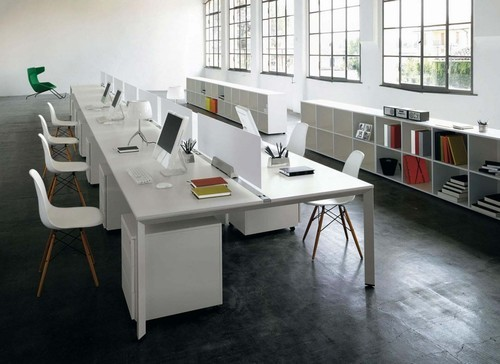conference_table: (68, 86, 374, 339)
